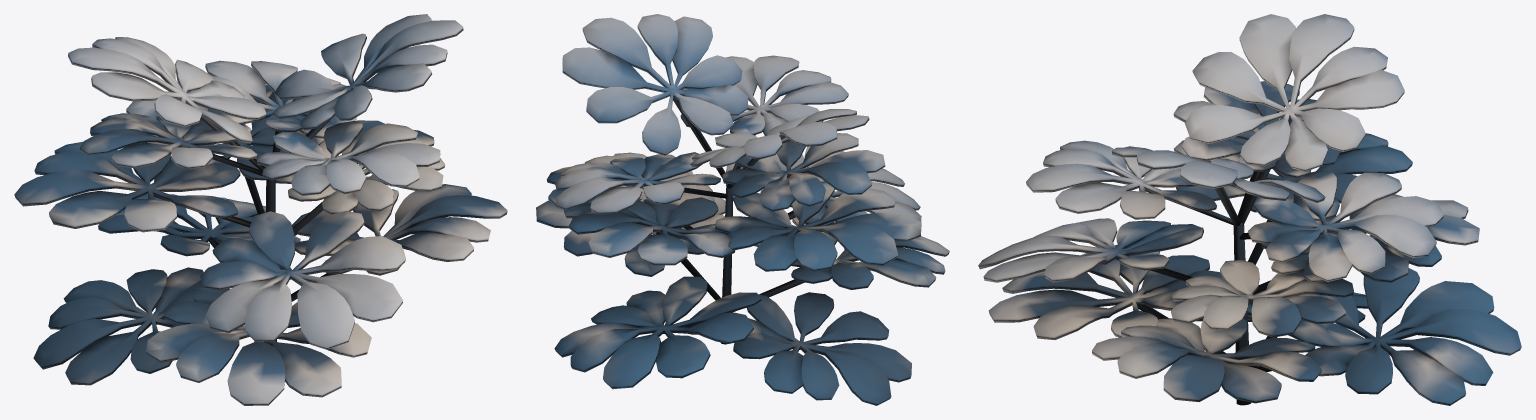
The model's file is PlantUmbrella.fbx.
3 renders of one model, left to right at view 1: azimuth 30°, elevation 25°; view 2: azimuth 150°, elevation 25°; view 3: azimuth 270°, elevation 25°, orthographic. The views are drawn at different scales.
Visible parts, largest first — view 1: PlantUmbrella; view 2: PlantUmbrella; view 3: PlantUmbrella.
Boxes of the visible parts, x1,y1,x2,y2 form: PlantUmbrella: (14,14,507,405); PlantUmbrella: (536,14,949,405); PlantUmbrella: (978,14,1521,405).
Bounding box in the file's own units: 61.11 × 40.34 × 64.37.
